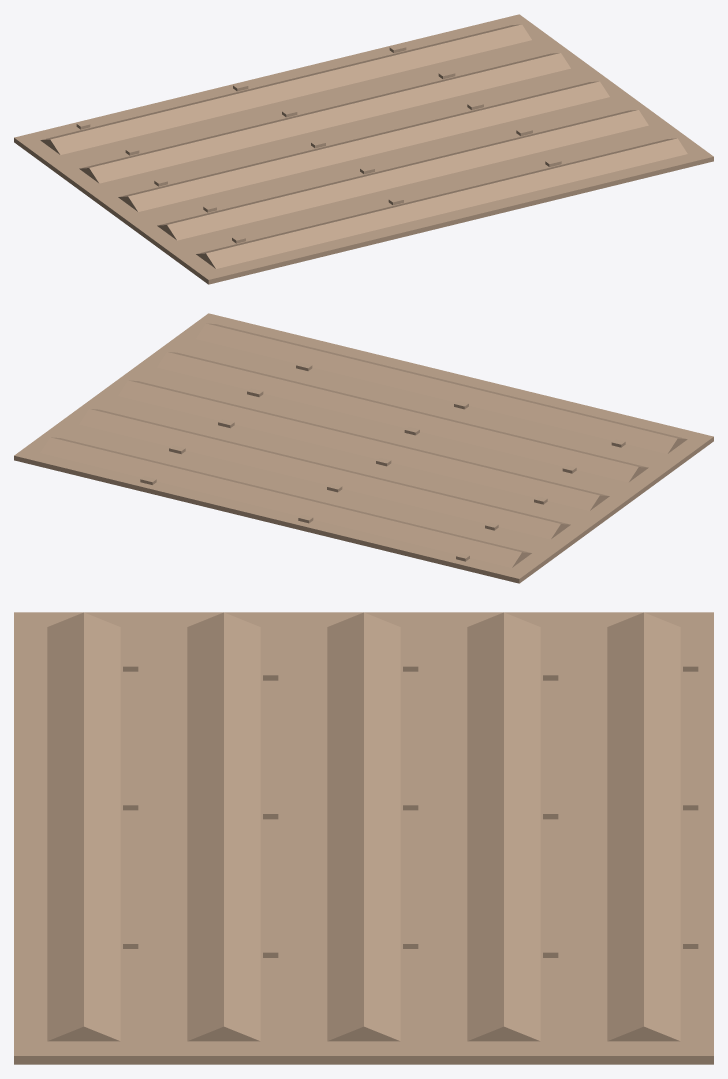
File: field-cut.glb
3 renders of one model, top to bottom at view 1: azimuth 30°, elevation 25°; view 2: azimuth 150°, elevation 25°; view 3: azimuth 270°, elevation 25°, orthographic. The views are drawn at different scales.
Parts seen in each view (by area): view 1: field-cut_soil; view 2: field-cut_soil; view 3: field-cut_soil.
Boxes of the visible parts, x1,y1,x2,y2 form: field-cut_soil: (14,14,713,284); field-cut_soil: (14,313,713,583); field-cut_soil: (14,612,713,1064).
Size of the model in its own units: 3 by 0.0733 by 2.
